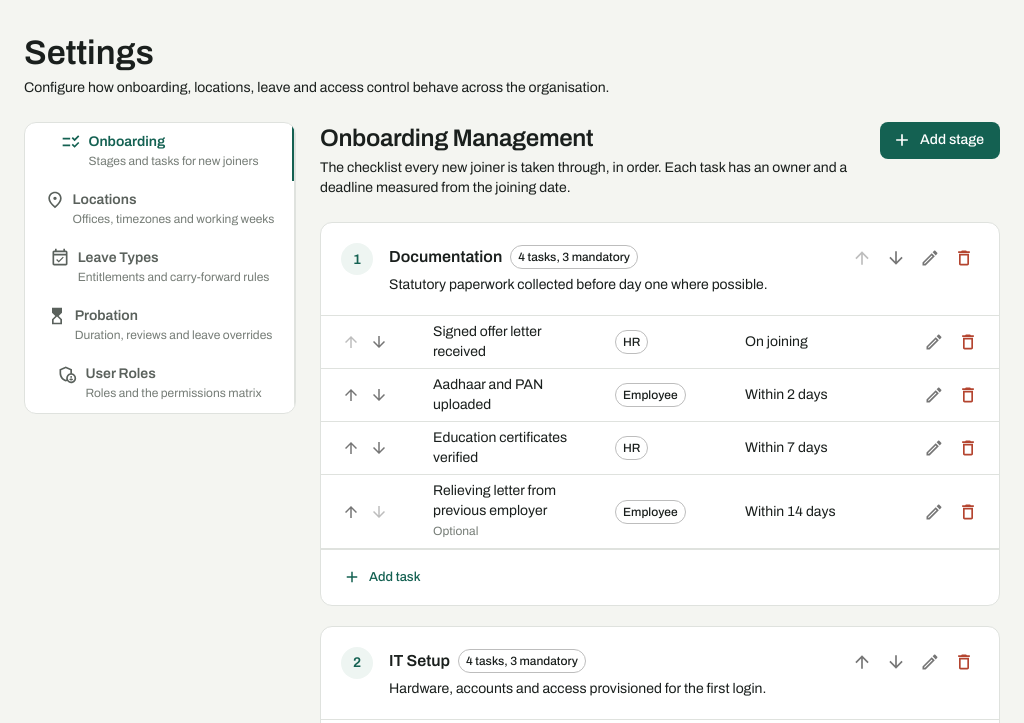
Test: SettingsPage › refuses to save a location with no name
expect the heading "Onboarding Management" is shown: met, box left=320, top=125, right=593, bottom=151
What coordinates should you click on to do the following:
click the tab "Locations Offices, timezones and working weeks"
I would click on:
 (160, 210)
Its box is left=25, top=181, right=294, bottom=239.
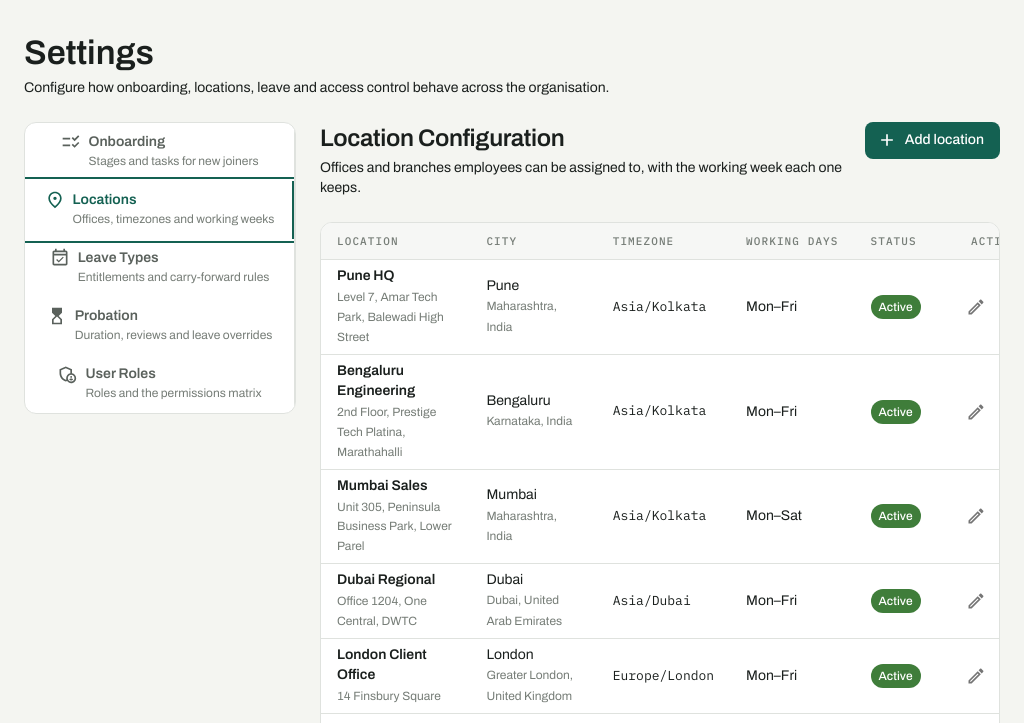
expect the heading "Location Configuration" is shown: met, box left=320, top=125, right=564, bottom=151
What coordinates should you click on to do the following:
click the button "Add location"
I would click on:
 (932, 140)
Its box is left=865, top=122, right=1000, bottom=158.
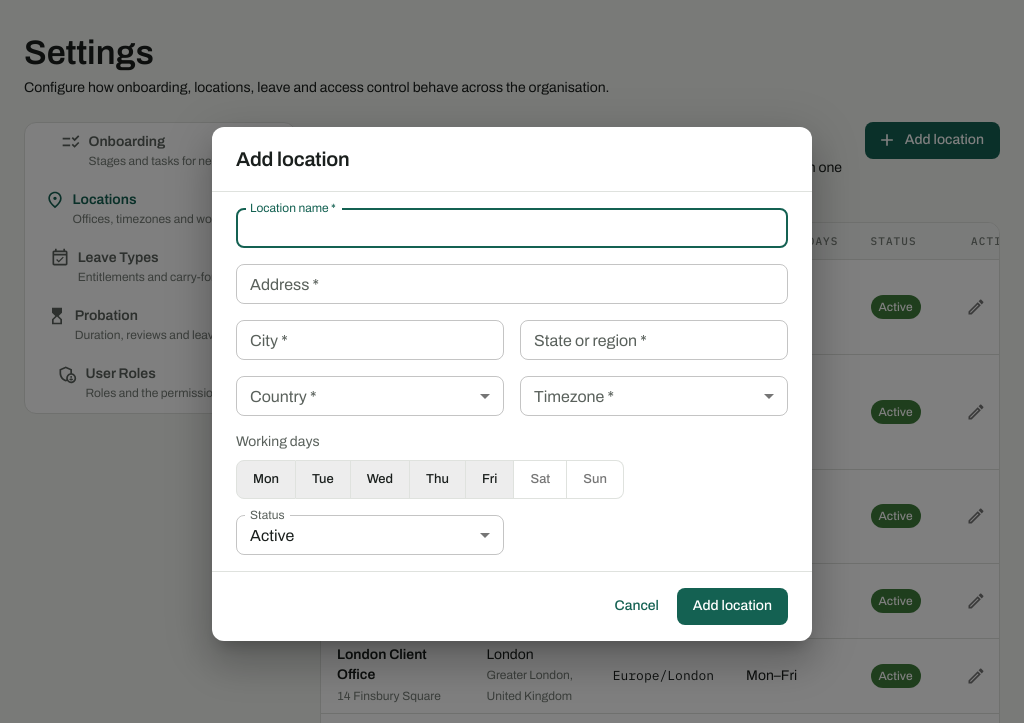
What coordinates should you click on to do the following:
click the button "Add location"
I would click on:
 (732, 606)
Its box is left=677, top=588, right=788, bottom=625.
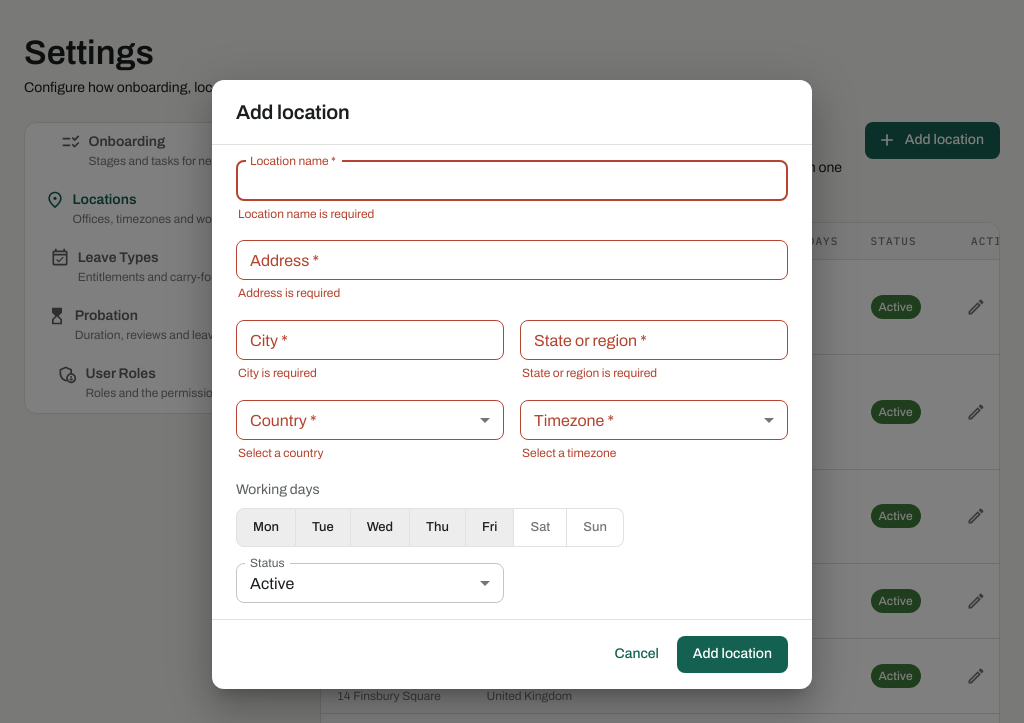
expect the dialog is shown: met, box left=212, top=80, right=812, bottom=688
expect the text "Location name is required" is shown: met, box left=238, top=206, right=374, bottom=220
